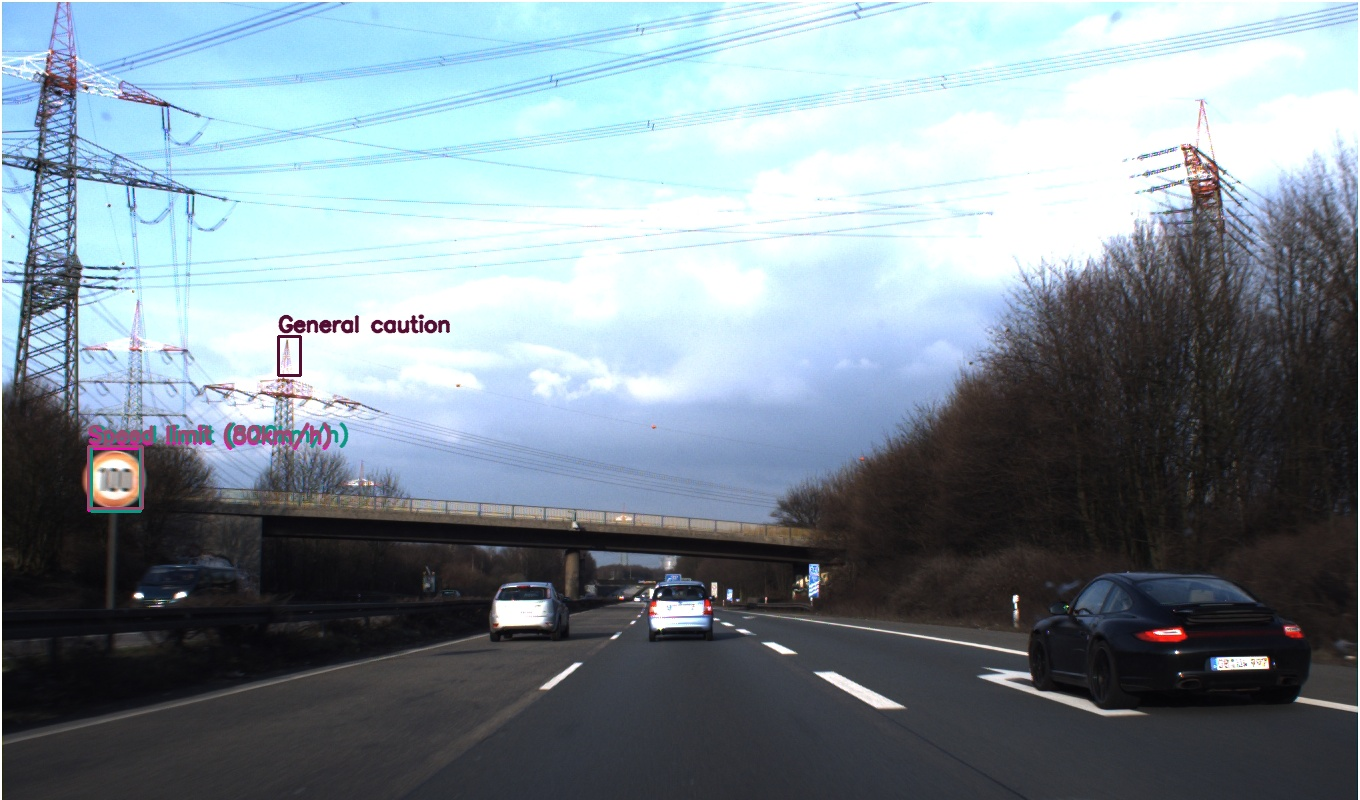Keep right: (386, 494, 442, 552)
Roundabout mandatory: (983, 388, 1024, 432)
Yield: (973, 335, 1031, 390)
